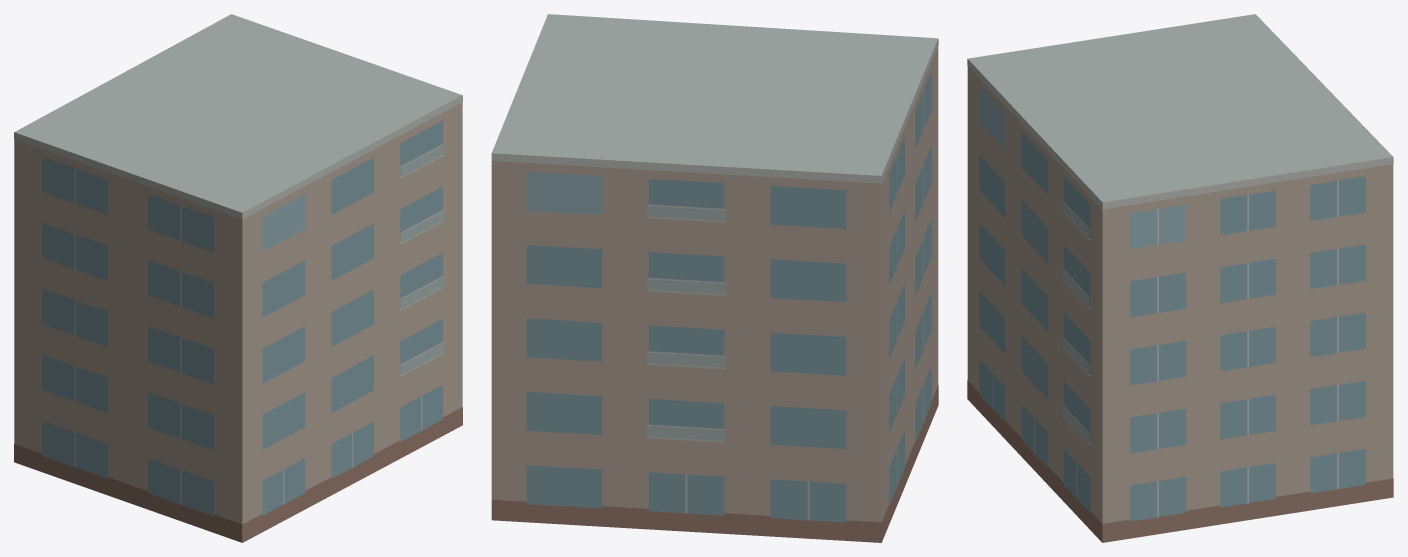
File: survey-upis-32846443.glb
The picture shows the model from 3 angles, left to right: view 1: azimuth 30°, elevation 25°; view 2: azimuth 150°, elevation 25°; view 3: azimuth 270°, elevation 25°; orthographic projection. The views are drawn at different scales.
Visible parts, largest first — view 1: survey-upis-32846443.tmp; view 2: survey-upis-32846443.tmp; view 3: survey-upis-32846443.tmp.
Part boxes in pixels (x1=…): survey-upis-32846443.tmp: x1=14, y1=14, x2=462, y2=542; survey-upis-32846443.tmp: x1=491, y1=14, x2=938, y2=542; survey-upis-32846443.tmp: x1=967, y1=14, x2=1393, y2=542.
Size of the model in its own units: 14.01 by 11.8 by 13.39.
